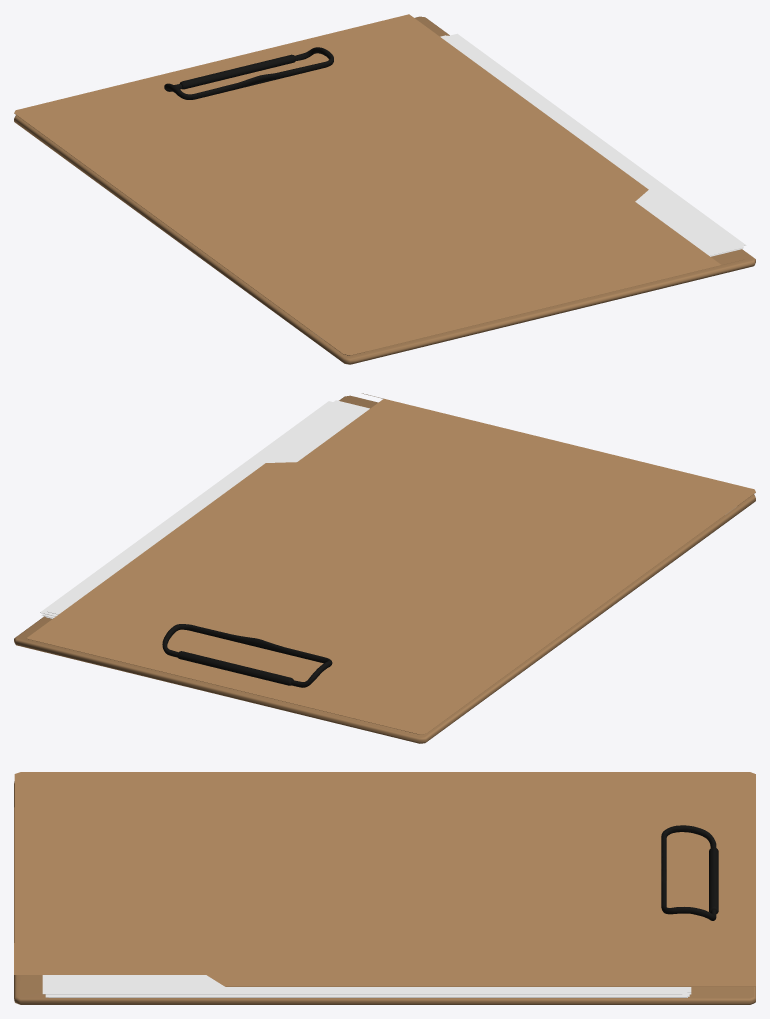
3 views of the same model, one above another, from view 1: azimuth 30°, elevation 25°; view 2: azimuth 150°, elevation 25°; view 3: azimuth 270°, elevation 25° (orthographic). The views are drawn at different scales.
Parts seen in each view (by area): view 1: File; view 2: File; view 3: File.
Boxes of the visible parts, box(x1,y1,x2,y2) form: File: box(14, 14, 755, 364); File: box(14, 393, 755, 743); File: box(14, 772, 755, 1004).
Size of the model in its own units: 0.2214 by 0.0132 by 0.3098.
1 material, 1 textured.
